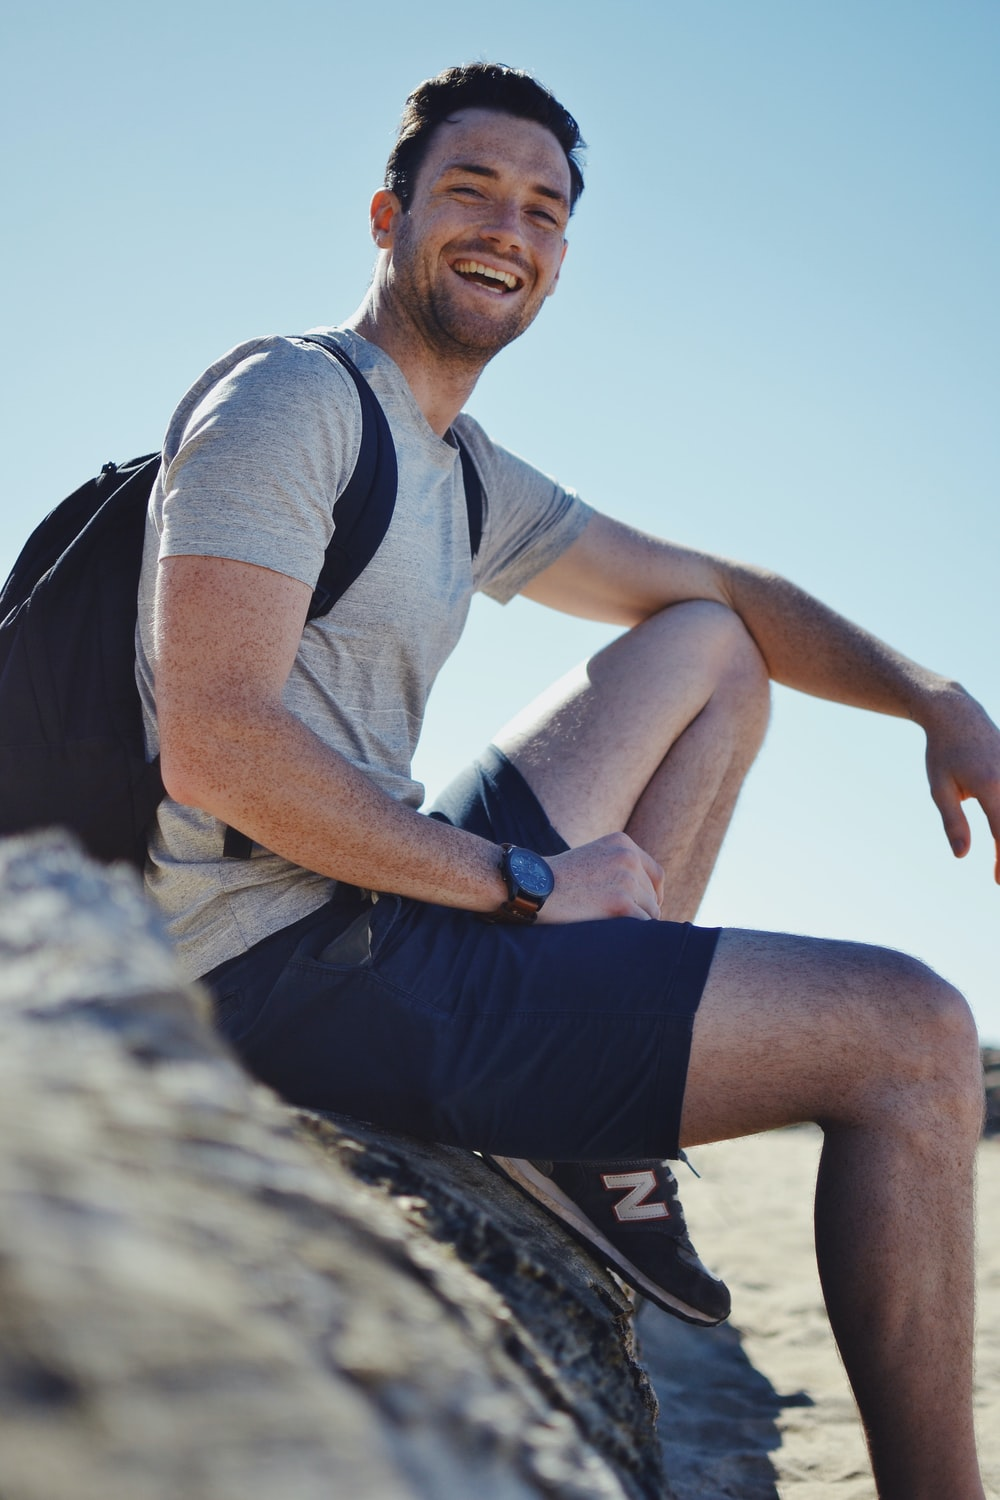person: (112, 42, 1000, 1500)
